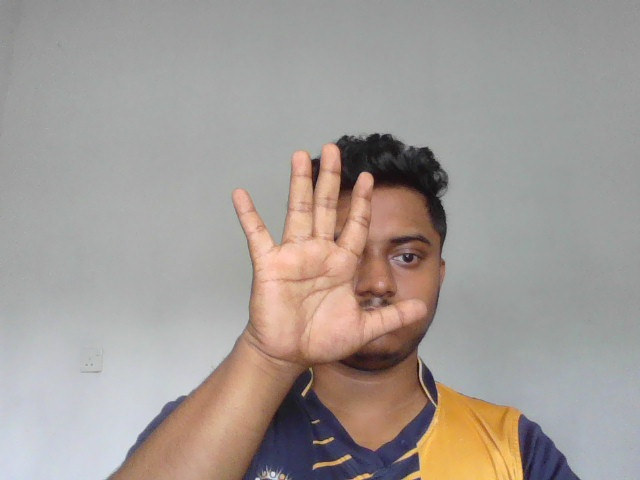Hello: (231, 142, 430, 365)
